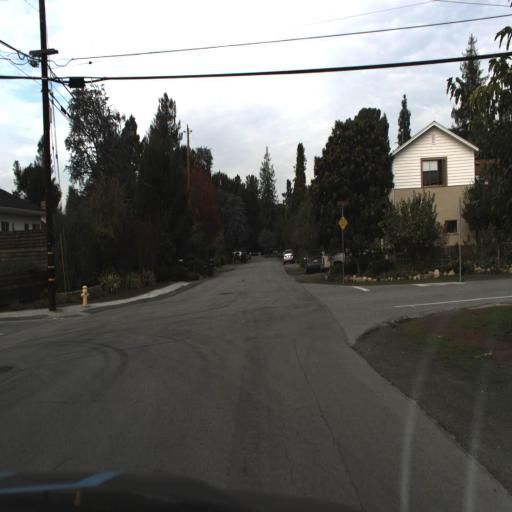car: (320, 240, 355, 275), (302, 242, 322, 275), (302, 246, 321, 275), (280, 247, 294, 268), (282, 247, 295, 265)
